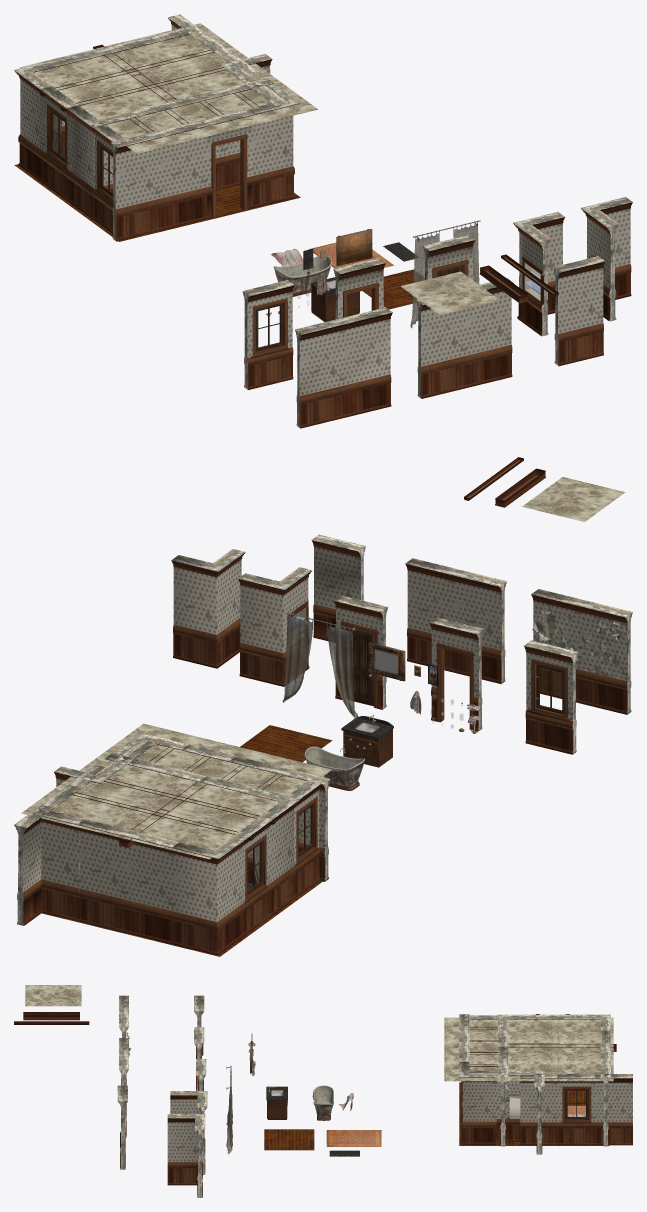
File: bathroom.glb
The picture shows the model from 3 angles, top to bottom: view 1: azimuth 30°, elevation 25°; view 2: azimuth 150°, elevation 25°; view 3: azimuth 270°, elevation 25°; orthographic projection. The views are drawn at different scales.
Parts seen in each view (by area): view 1: Selling_top.001, Wall_Dam1_long, Wall_Clear_long.002, Wall_Clear_long, Wall_Clear_Short, Wall_Window, Wall_corner_shelf, Wall_Corner.004, Wall_Corner, Wall_Corner.001, Wall_Corner.002, Wall_Window.002 (+16 smaller); view 2: Selling_top.001, Wall_Clear_long.001, Wall_Dam1_long, Wall_Clear_long, Wall_Corner, Wall_Corner.002, Wall_corner_shelf, Wall_Window, Wall_Clear_Short.003, Wall_Clear_Short, Curtain_flat, Wall_Doorway (+16 smaller); view 3: Selling_top.001, Wall_Corner, Wall_Corner.004, Wall_Clear_Short.001, Wall_Clear_Short.002, Wall_Window.001, Wall_corner_shelf.001, Selling_top, Floor tile, Wall_corner_shelf, Fabric_Carpet, Floor tile.001 (+15 smaller).
Boxes of the visible parts, <box> form: Selling_top.001: <box>19,23,318,153</box>; Wall_Dam1_long: <box>295,307,392,428</box>; Wall_Clear_long.002: <box>111,120,208,241</box>; Wall_Clear_long: <box>416,278,513,398</box>; Wall_Clear_Short: <box>553,256,605,366</box>; Wall_Window: <box>242,280,294,389</box>; Wall_corner_shelf: <box>513,212,564,336</box>; Wall_Corner.004: <box>247,84,299,207</box>; Wall_Corner: <box>581,197,632,321</box>; Wall_Corner.001: <box>66,105,137,220</box>; Wall_Corner.002: <box>14,59,66,182</box>; Wall_Window.002: <box>40,86,78,201</box>; Selling_top.001: <box>21,723,331,859</box>; Wall_Clear_long.001: <box>77,819,178,944</box>; Wall_Dam1_long: <box>531,589,632,714</box>; Wall_Clear_long: <box>405,558,506,683</box>; Wall_Corner: <box>171,549,245,668</box>; Wall_Corner.002: <box>172,836,245,955</box>; Wall_corner_shelf: <box>238,567,312,686</box>; Wall_Window: <box>524,640,578,754</box>; Wall_Clear_Short.003: <box>30,807,84,921</box>; Wall_Clear_Short: <box>311,534,365,642</box>; Curtain_flat: <box>282,611,358,718</box>; Wall_Doorway: <box>429,617,483,731</box>; Selling_top.001: <box>444,1017,613,1081</box>; Wall_Corner: <box>167,1114,205,1197</box>; Wall_Corner.004: <box>459,1062,496,1144</box>; Wall_Clear_Short.001: <box>595,1074,632,1145</box>; Wall_Clear_Short.002: <box>520,1074,557,1144</box>; Wall_Window.001: <box>557,1074,595,1144</box>; Wall_corner_shelf.001: <box>507,1070,544,1154</box>; Selling_top: <box>25,985,81,1006</box>; Floor tile: <box>264,1129,314,1150</box>; Wall_corner_shelf: <box>170,1091,207,1174</box>; Fabric_Carpet: <box>326,1130,381,1146</box>; Floor tile.001: <box>459,1082,609,1145</box>.
Size of the model in its own units: 11.53 by 4.26 by 22.45.
Materials: 11 (10 with a texture image).
